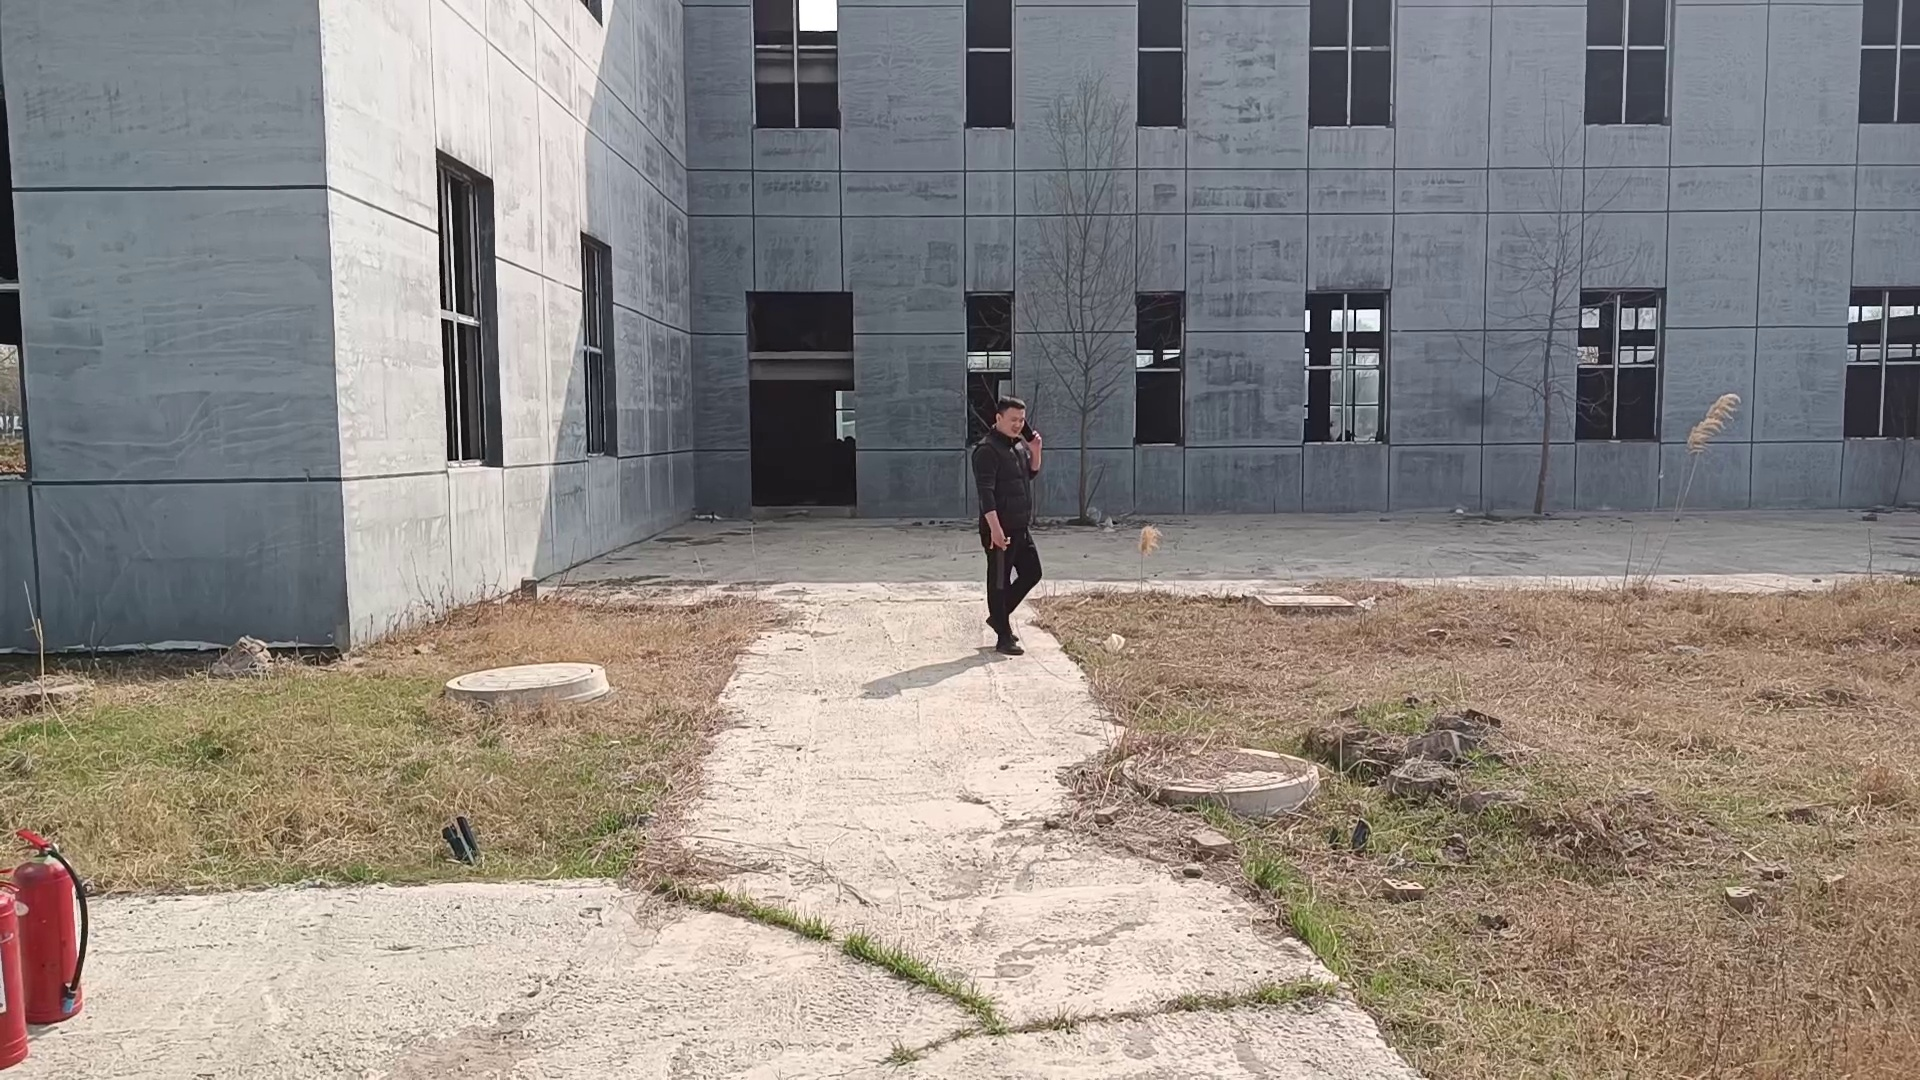phone: (980, 400, 1040, 456)
